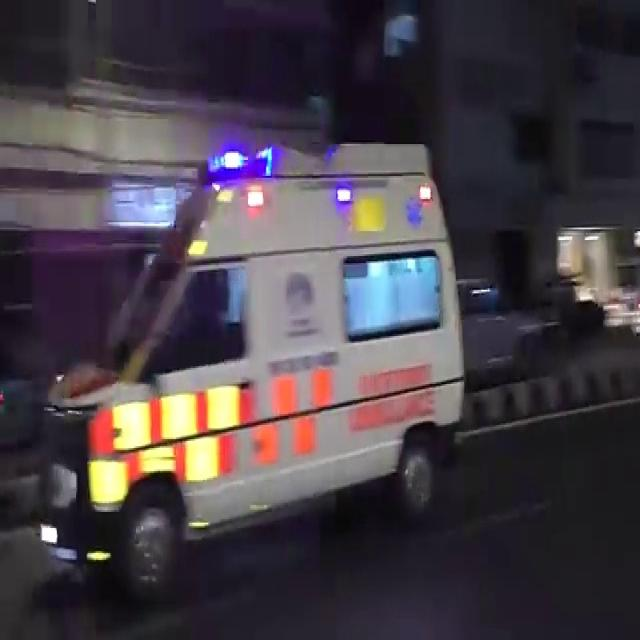ambulance: (46, 149, 465, 526)
